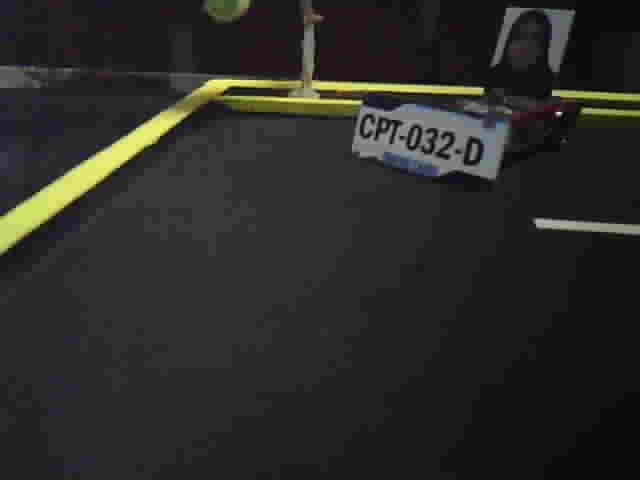PLACA: (348, 91, 515, 194)
ROSTRO: (489, 12, 560, 84)
